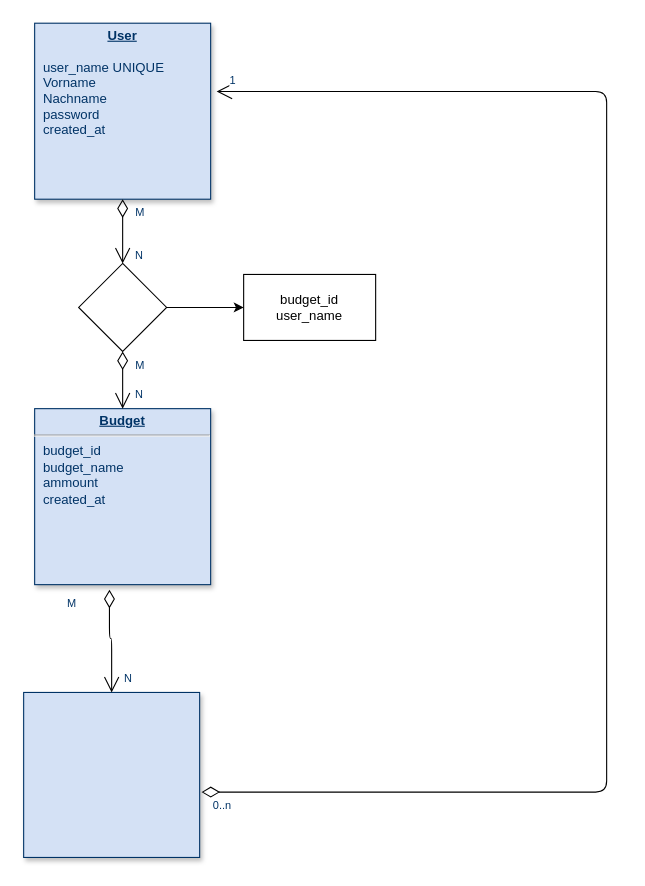
This 645x886 diagram has some shape labels left out. The centre of each missing label's shape, as x and y in pixels:
"Have" goes at point (122, 306).
"Transaction transaction_id budget_id user_id category ammount date description" goes at point (112, 776).
